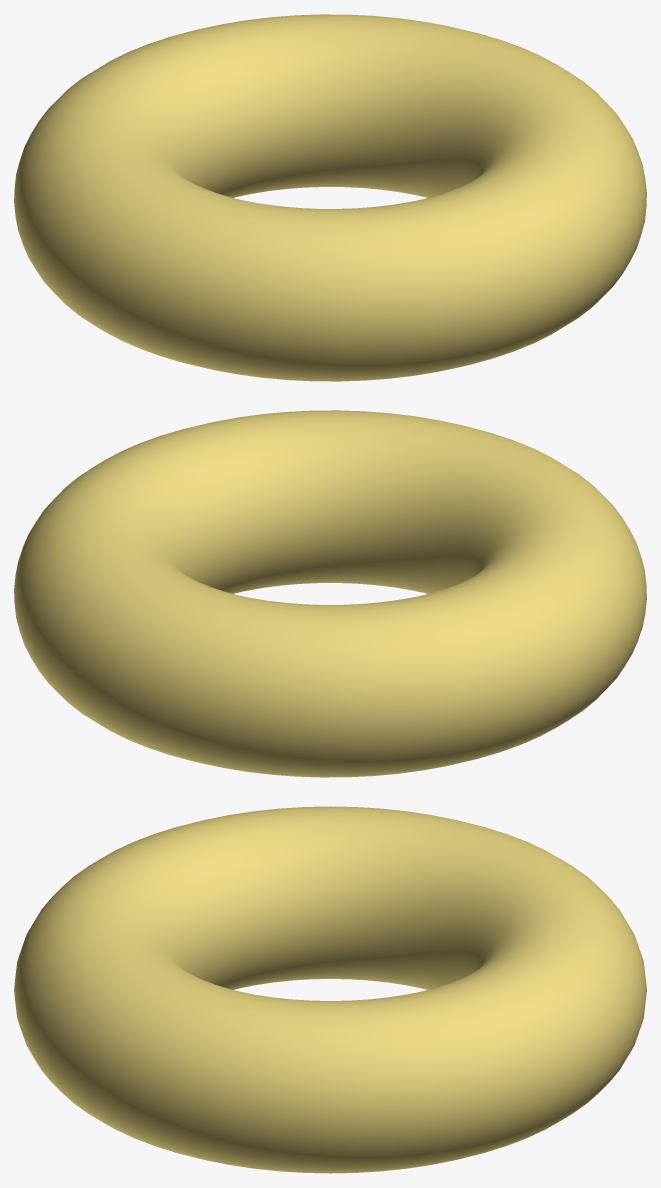
The model's file is ring_gold.glb.
3 views of the same model, one above another, from view 1: azimuth 30°, elevation 25°; view 2: azimuth 150°, elevation 25°; view 3: azimuth 270°, elevation 25° (orthographic).
Size of the model in its own units: 2.2 by 0.6 by 2.2.
